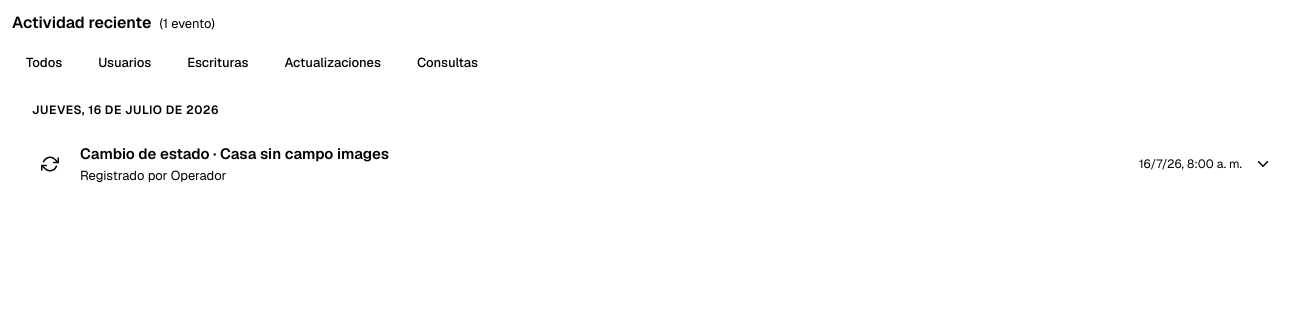
Test: TenantActivityFeed — property image thumbnail strip › does not crash and omits the strip when property.images is entirely absent from the wire
Click the button that starts with "Cambio de estado · Casa sin campo images": (235, 153) [12,128,1292,200]
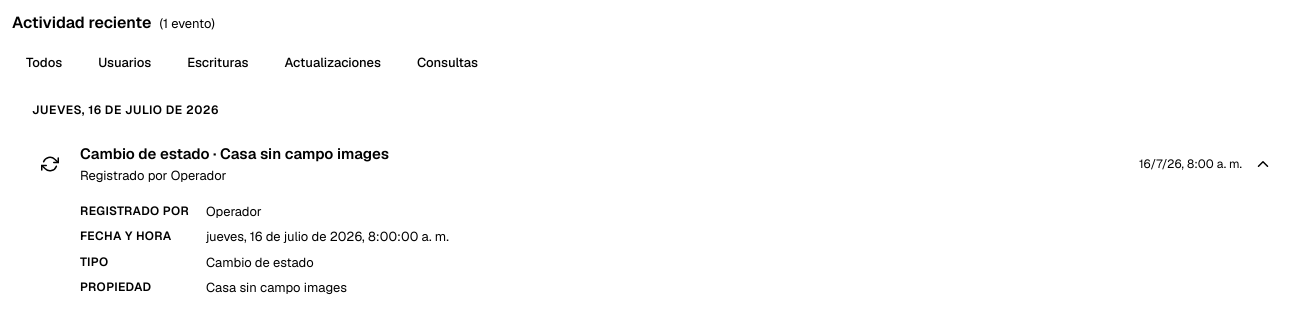
Expected: the text "Propiedad" is shown, [80,279,151,295]
